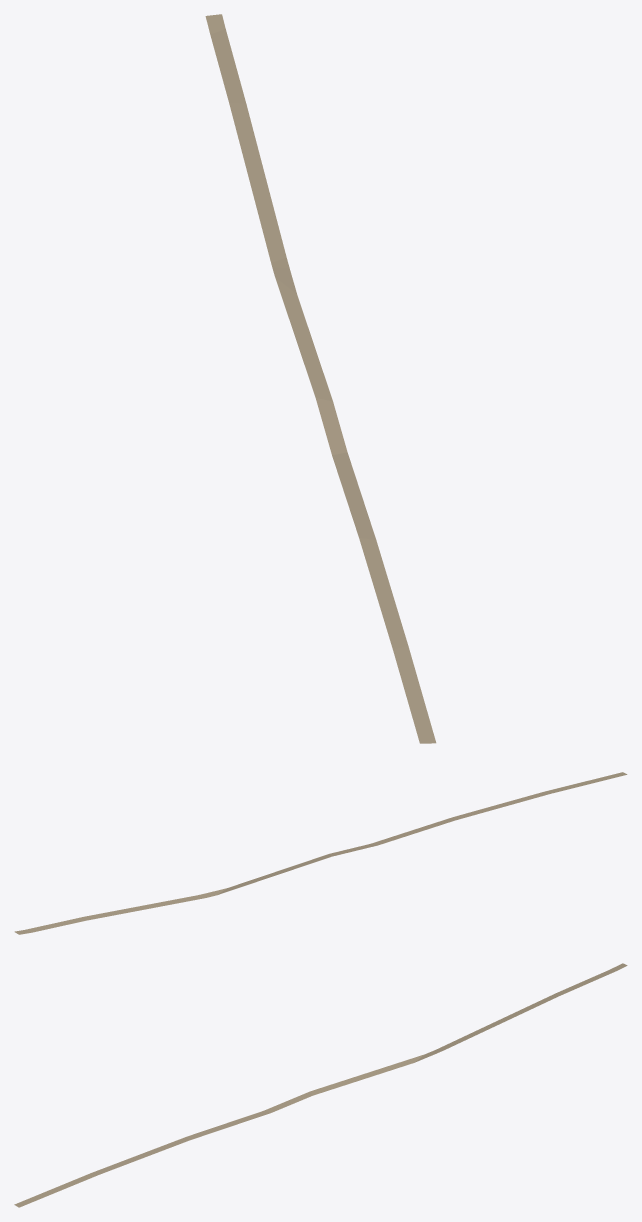
Rendered from farm_3_21_track.glb.
The picture shows the model from 3 angles, top to bottom: view 1: azimuth 30°, elevation 25°; view 2: azimuth 150°, elevation 25°; view 3: azimuth 330°, elevation 25°; orthographic projection. The views are drawn at different scales.
Parts seen in each view (by area): view 1: geometry_0; view 2: geometry_0; view 3: geometry_0.
Part boxes in pixels (box(x1,y1,x2,y2)): geometry_0: box(205, 14, 436, 743); geometry_0: box(14, 772, 627, 934); geometry_0: box(14, 963, 627, 1207).
Size of the model in its own units: 117 by 17.93 by 283.
